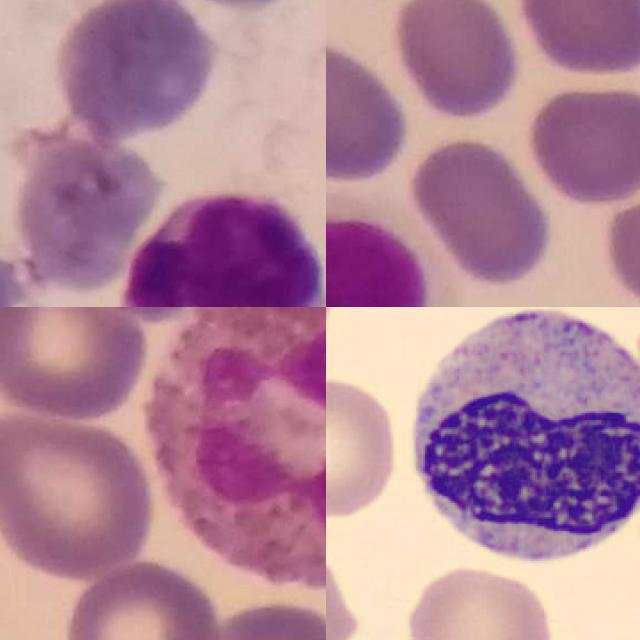Eosinophil: (148, 307, 326, 589)
Lymphocyte: (396, 307, 640, 578), (115, 192, 326, 307), (326, 192, 459, 307)
RBC: (400, 562, 558, 640), (326, 372, 403, 522)
